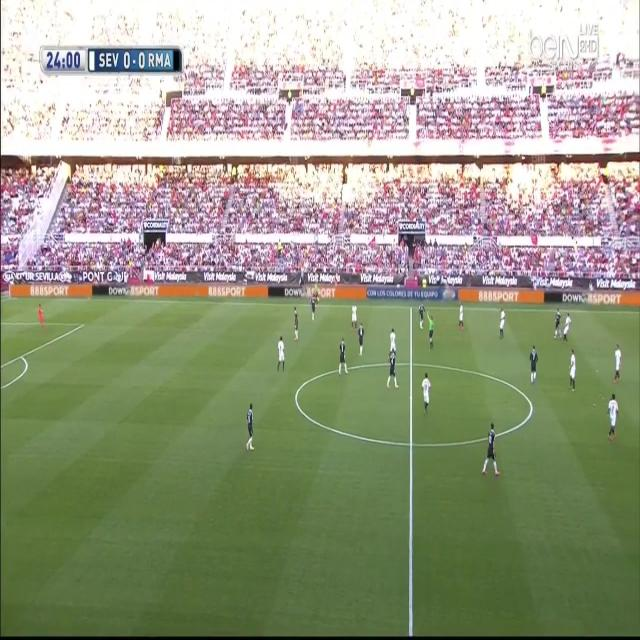Goalkeeper: (34, 300, 46, 329)
Player: (479, 420, 501, 482), (244, 401, 258, 454), (384, 350, 400, 391), (336, 337, 352, 377), (608, 394, 620, 442), (612, 341, 624, 388), (274, 334, 287, 376), (421, 372, 432, 419), (528, 344, 539, 391), (563, 312, 574, 347), (497, 306, 507, 342), (356, 320, 365, 359), (292, 304, 301, 342), (349, 300, 359, 333), (569, 347, 576, 394), (553, 306, 562, 342), (457, 302, 466, 335), (309, 292, 317, 325), (418, 301, 426, 333), (388, 327, 396, 354)
Referee: (426, 311, 437, 352), (313, 284, 321, 306)
